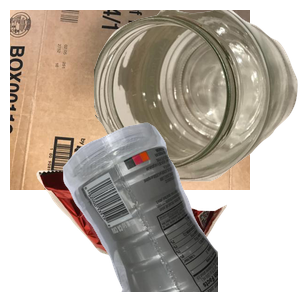cardboard: (10, 10, 250, 190)
glass: (94, 10, 300, 184)
plastic: (60, 120, 300, 300)
trash: (34, 136, 253, 300)
